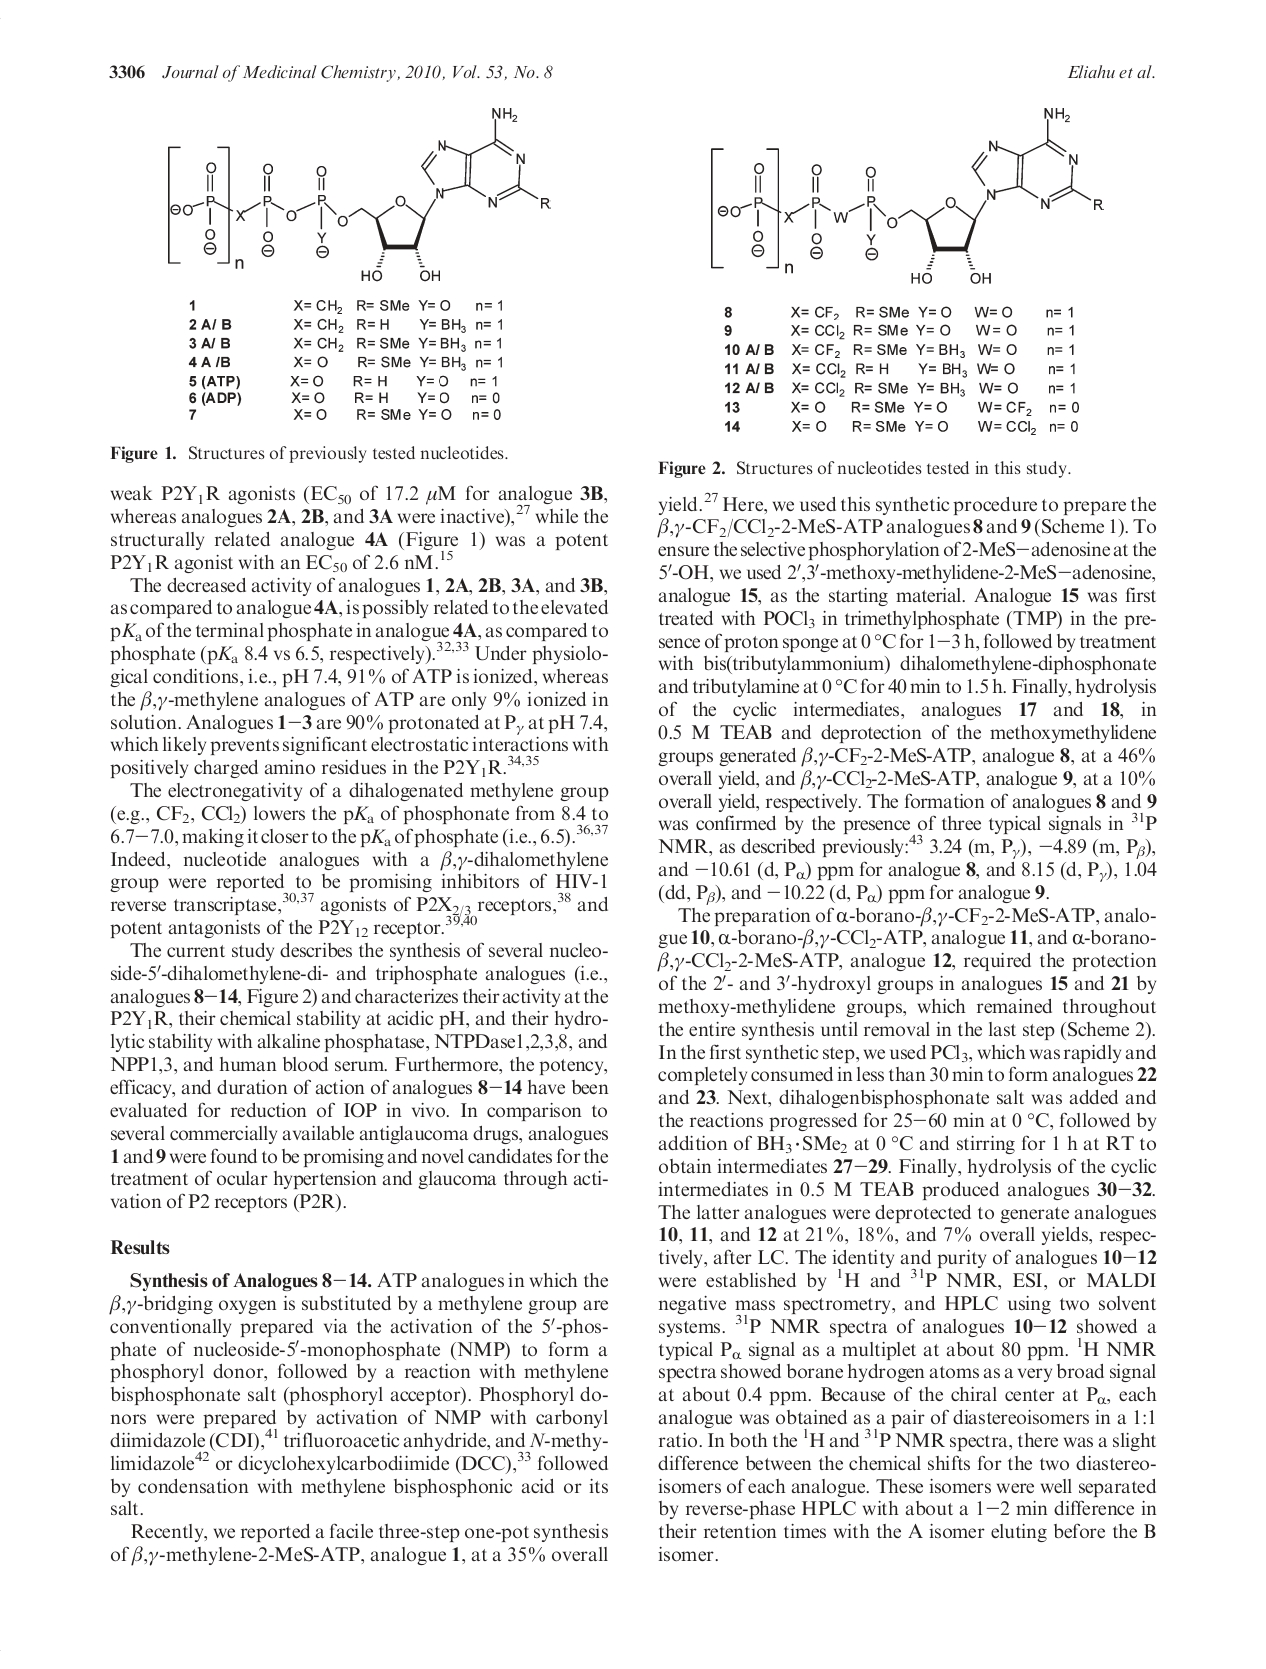exist_molecular: (701, 98, 1110, 289), (164, 105, 556, 281)
